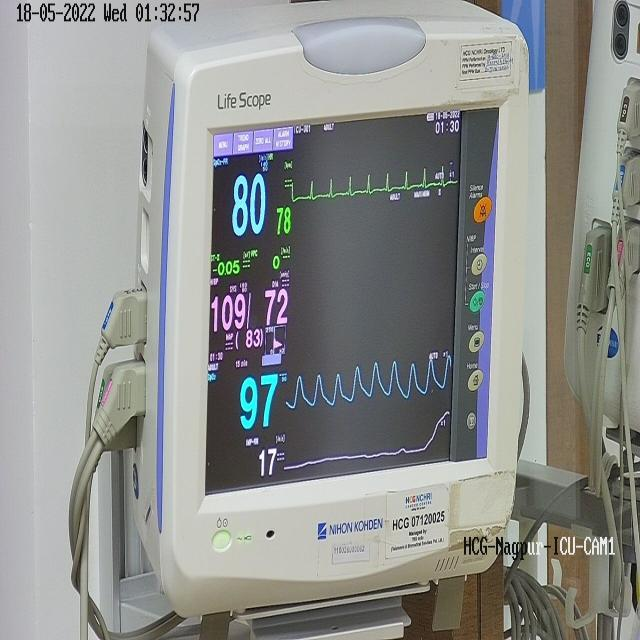Monitor: (126, 1, 532, 633)
